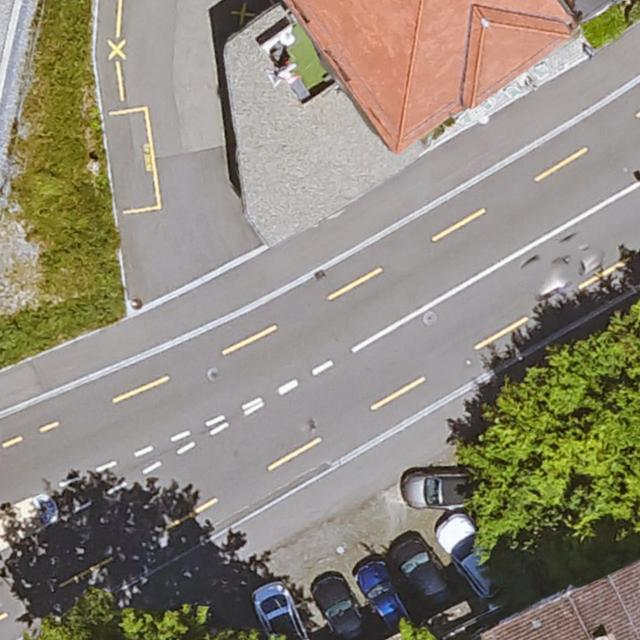tree: (478, 316, 640, 542), (27, 586, 124, 640), (122, 611, 211, 640), (206, 628, 274, 640)
